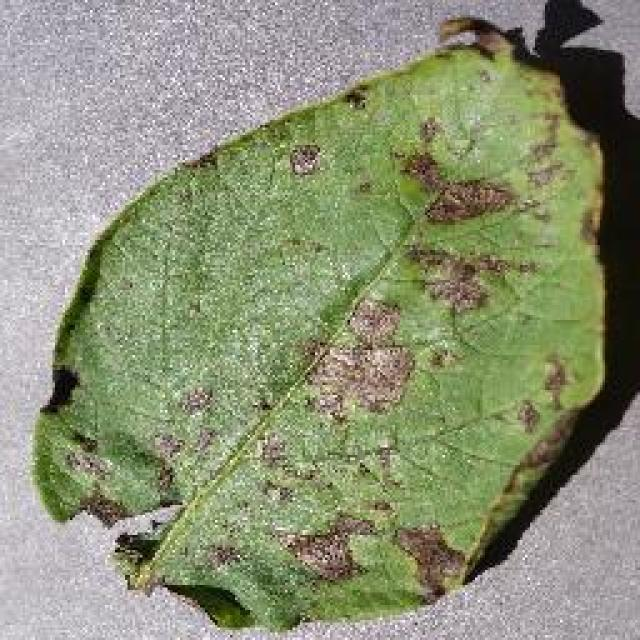early_blight: (27, 15, 615, 635)
